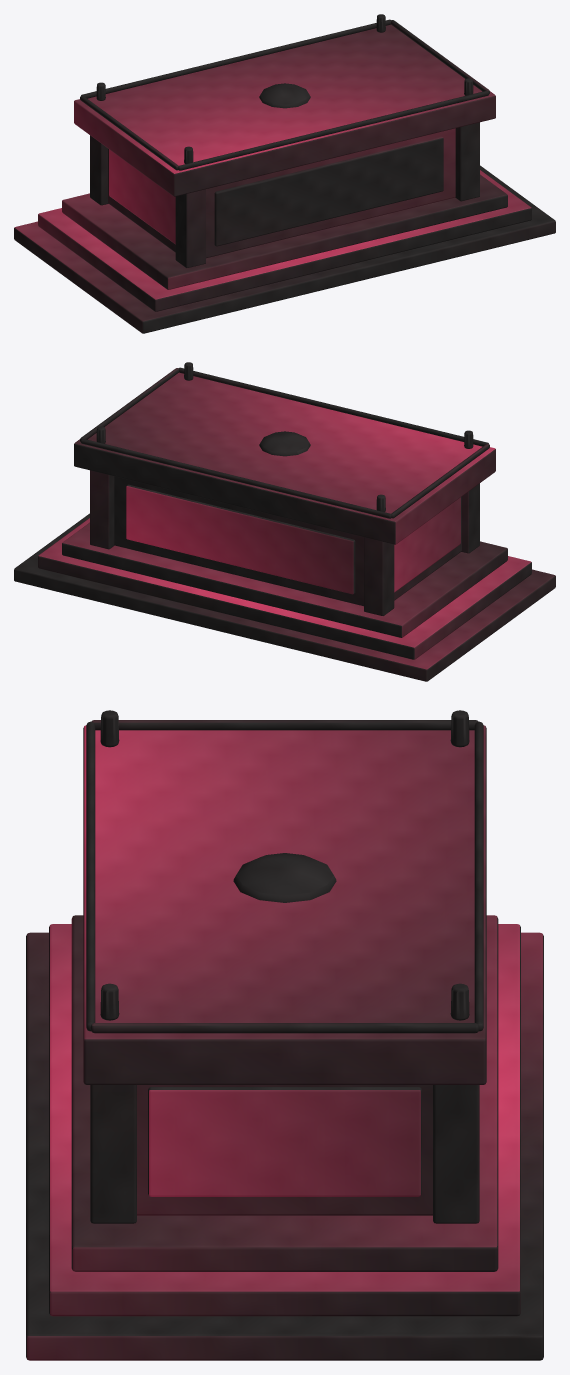
Rendered from StoneAltar_Ritual_LOD0.glb.
The picture shows the model from 3 angles, top to bottom: view 1: azimuth 30°, elevation 25°; view 2: azimuth 150°, elevation 25°; view 3: azimuth 270°, elevation 25°; orthographic projection. The views are drawn at different scales.
Parts seen in each view (by area): view 1: StoneAltar_Ritual_LOD0; view 2: StoneAltar_Ritual_LOD0; view 3: StoneAltar_Ritual_LOD0.
Boxes of the visible parts, left/top/right/bottom form: StoneAltar_Ritual_LOD0: left=14, top=14, right=555, bottom=333; StoneAltar_Ritual_LOD0: left=14, top=362, right=555, bottom=681; StoneAltar_Ritual_LOD0: left=26, top=710, right=543, bottom=1360.
Size of the model in its own units: 3.26 by 1.17 by 1.77.
1 material, 1 textured.
